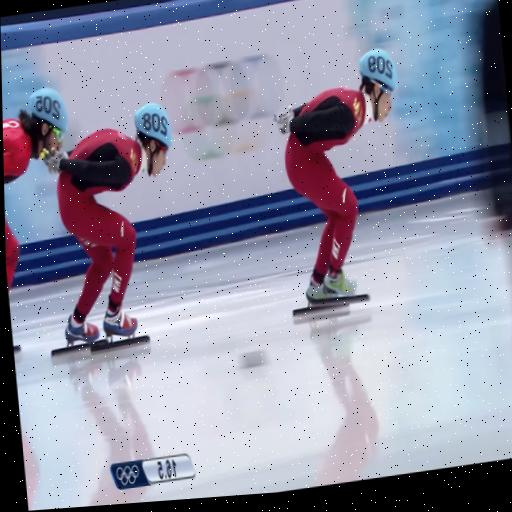Skater: (274, 48, 397, 304), (42, 104, 170, 346), (3, 88, 67, 184)
